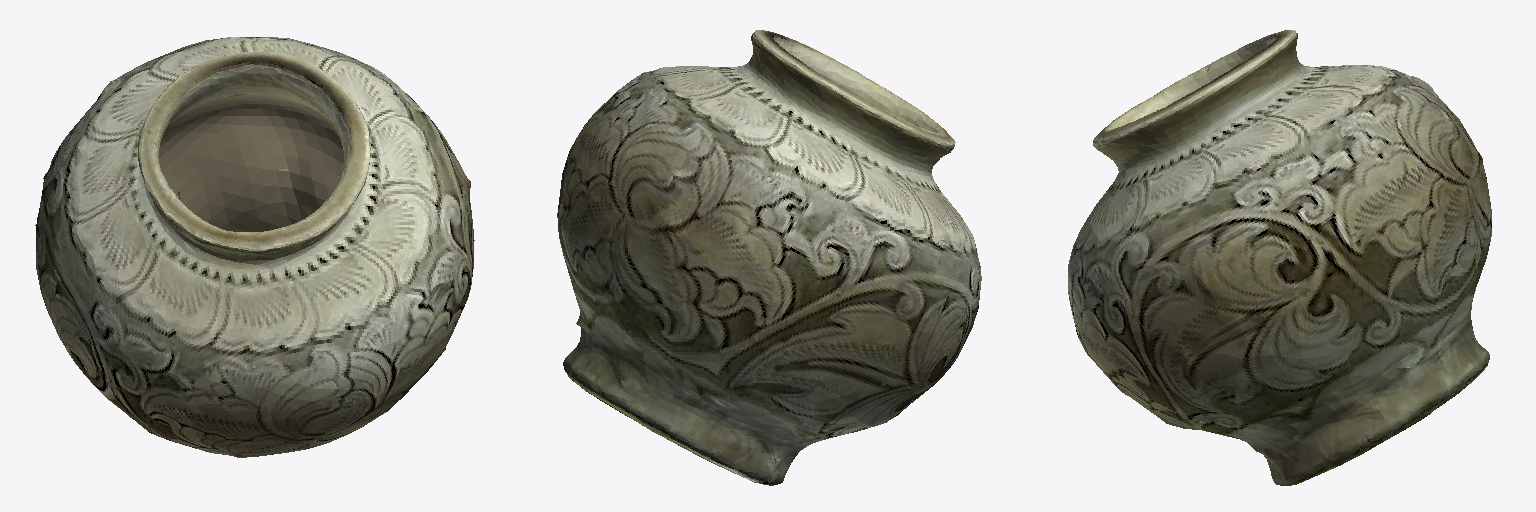
The picture shows the model from 3 angles: view 1: azimuth 30°, elevation 25°; view 2: azimuth 150°, elevation 25°; view 3: azimuth 270°, elevation 25°; orthographic projection.
Parts seen in each view (by area): view 1: group_0; view 2: group_0; view 3: group_0.
Boxes of the visible parts, <box> form: group_0: <box>35,37,474,457</box>; group_0: <box>557,30,981,485</box>; group_0: <box>1068,30,1491,485</box>.
Size of the model in its own units: 152 by 159 by 148.
Materials: 1 (1 with a texture image).